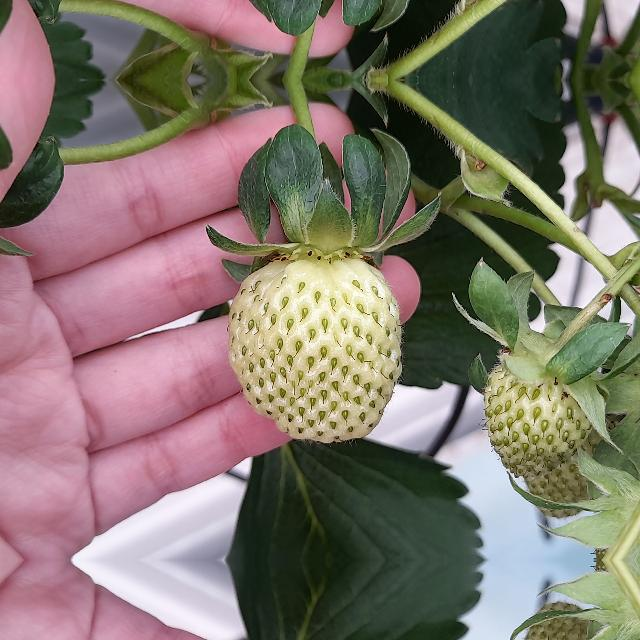Health_25: (228, 252, 402, 442), (483, 354, 597, 482)
